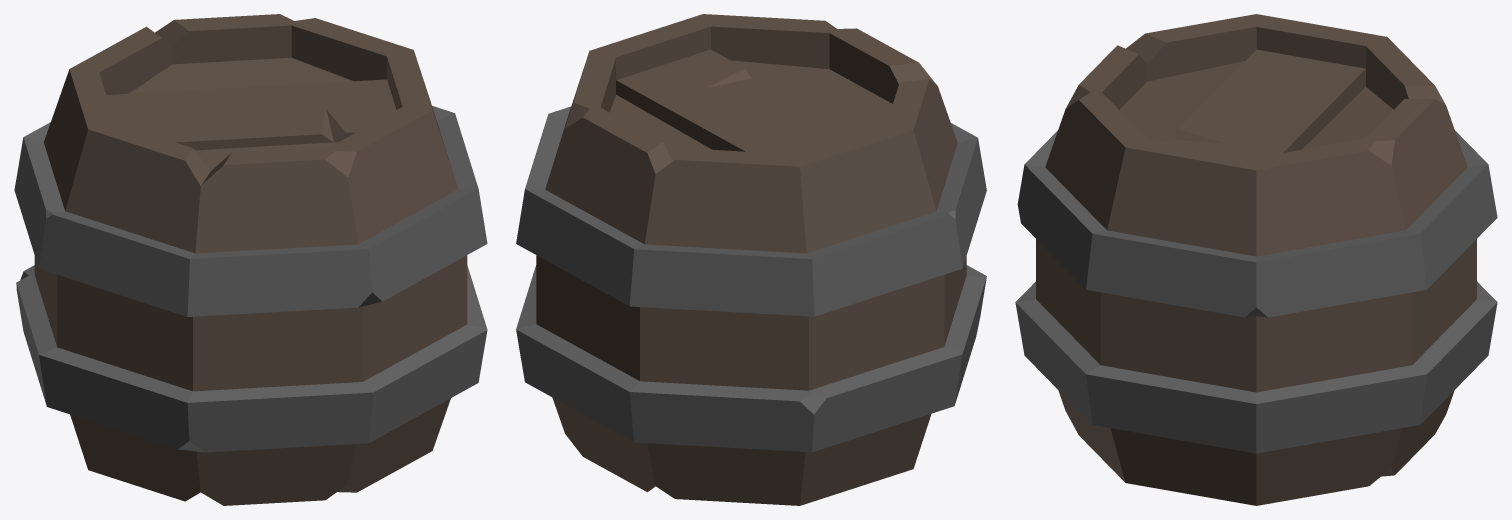
Rendered from chipped_barrel.fbx.
3 renders of one model, left to right at view 1: azimuth 30°, elevation 25°; view 2: azimuth 150°, elevation 25°; view 3: azimuth 270°, elevation 25°, orthographic.
Parts seen in each view (by area): view 1: BarrelChipped; view 2: BarrelChipped; view 3: BarrelChipped.
Boxes of the visible parts, box(x1,y1,x2,y2) form: BarrelChipped: box(14, 14, 487, 505); BarrelChipped: box(516, 14, 986, 505); BarrelChipped: box(1015, 14, 1497, 505).
Bounding box in the file's own units: 261 × 200 × 261.
